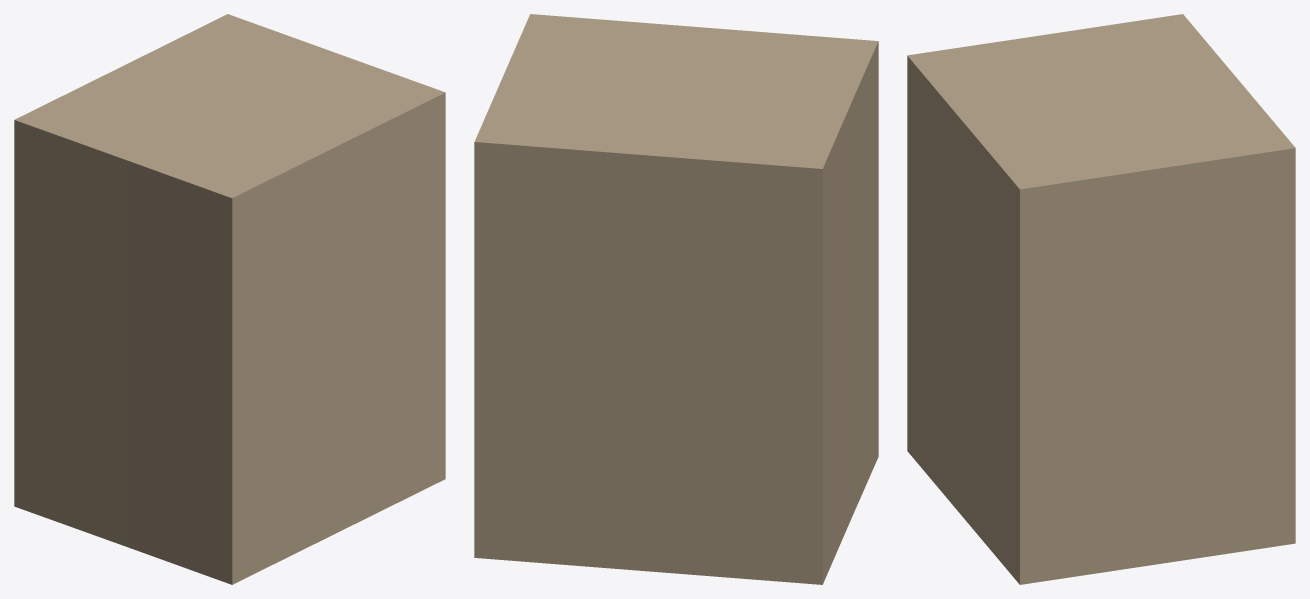
File: bld_108162368.dae
The picture shows the model from 3 angles, left to right: view 1: azimuth 30°, elevation 25°; view 2: azimuth 150°, elevation 25°; view 3: azimuth 270°, elevation 25°; orthographic projection. The views are drawn at different scales.
Parts seen in each view (by area): view 1: bld_108162368; view 2: bld_108162368; view 3: bld_108162368.
Boxes of the visible parts, box(x1,y1,x2,y2) form: bld_108162368: box(14, 14, 445, 584); bld_108162368: box(474, 14, 878, 584); bld_108162368: box(907, 14, 1295, 584).
Bounding box in the file's own units: 7.61 × 7.12 × 8.
